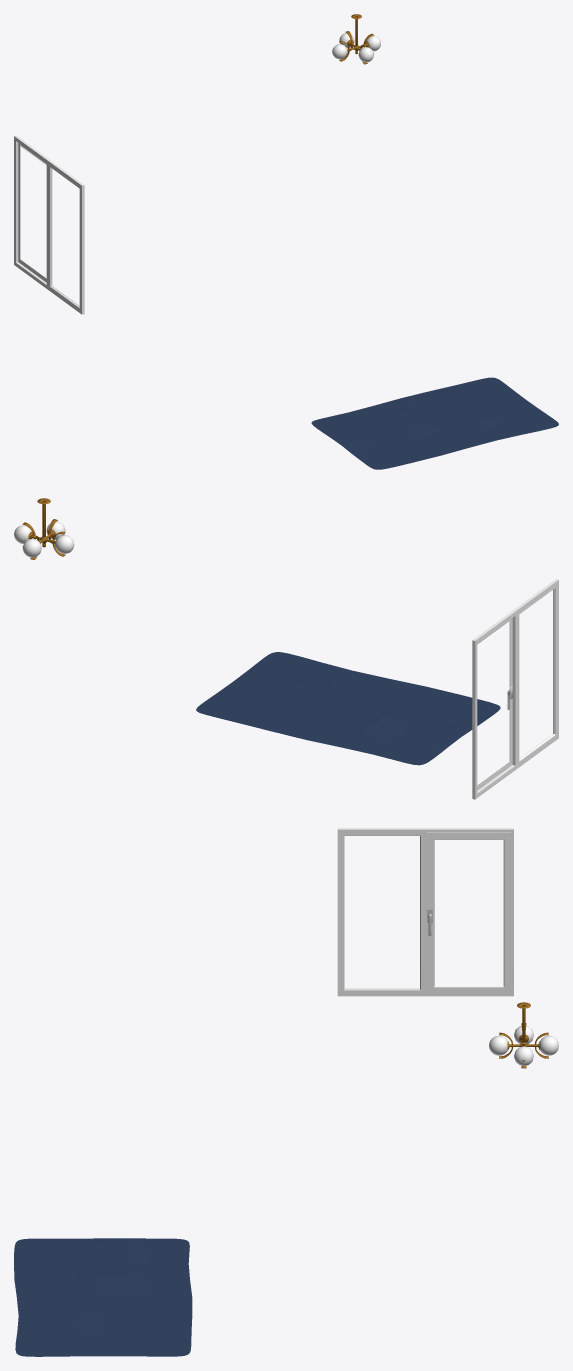
Rendered from smallObj.obj.
3 views of the same model, one above another, from view 1: azimuth 30°, elevation 25°; view 2: azimuth 150°, elevation 25°; view 3: azimuth 270°, elevation 25° (orthographic). The views are drawn at different scales.
Visible parts, largest first — view 1: tapete.001, window_frame_Plane.000, candeeiro_tecto; view 2: tapete.001, window_frame_Plane.000, candeeiro_tecto; view 3: tapete.001, window_frame_Plane.000, candeeiro_tecto.
Part boxes in pixels (<box>): tapete.001: <box>311,377,558,469</box>; window_frame_Plane.000: <box>14,135,84,314</box>; candeeiro_tecto: <box>332,14,380,64</box>; tapete.001: <box>196,652,500,765</box>; window_frame_Plane.000: <box>472,579,558,799</box>; candeeiro_tecto: <box>14,498,74,559</box>; tapete.001: <box>14,1238,192,1356</box>; window_frame_Plane.000: <box>337,828,513,996</box>; candeeiro_tecto: <box>489,1002,558,1068</box>.
Size of the model in its own units: 4.27 by 2.95 by 4.22.
